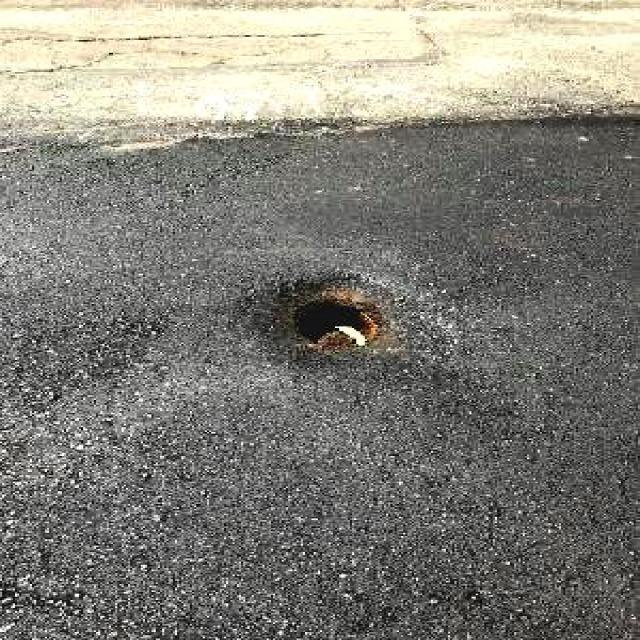pothole: (230, 235, 446, 396)
